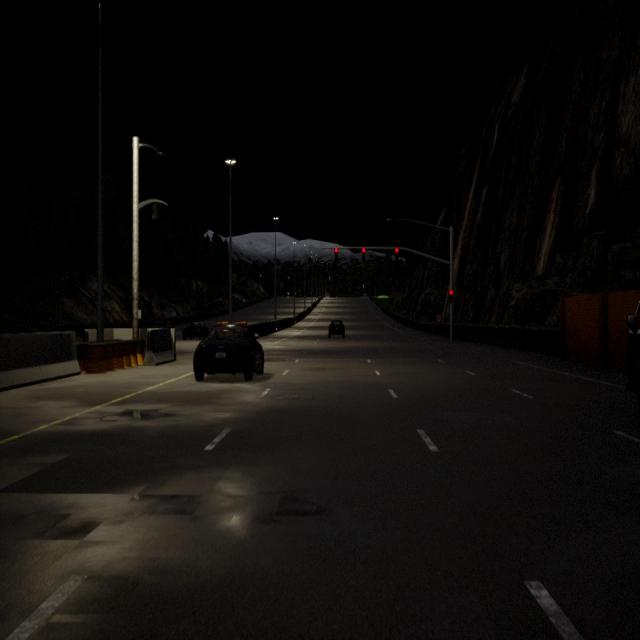Traffic_Signs: (437, 315, 441, 321), (172, 312, 176, 316)
Vehicle: (557, 289, 640, 376), (193, 321, 265, 381), (328, 319, 345, 338)
traffic_light: (152, 202, 158, 220), (449, 290, 454, 302), (395, 248, 399, 260), (362, 248, 366, 260), (334, 248, 338, 260)
